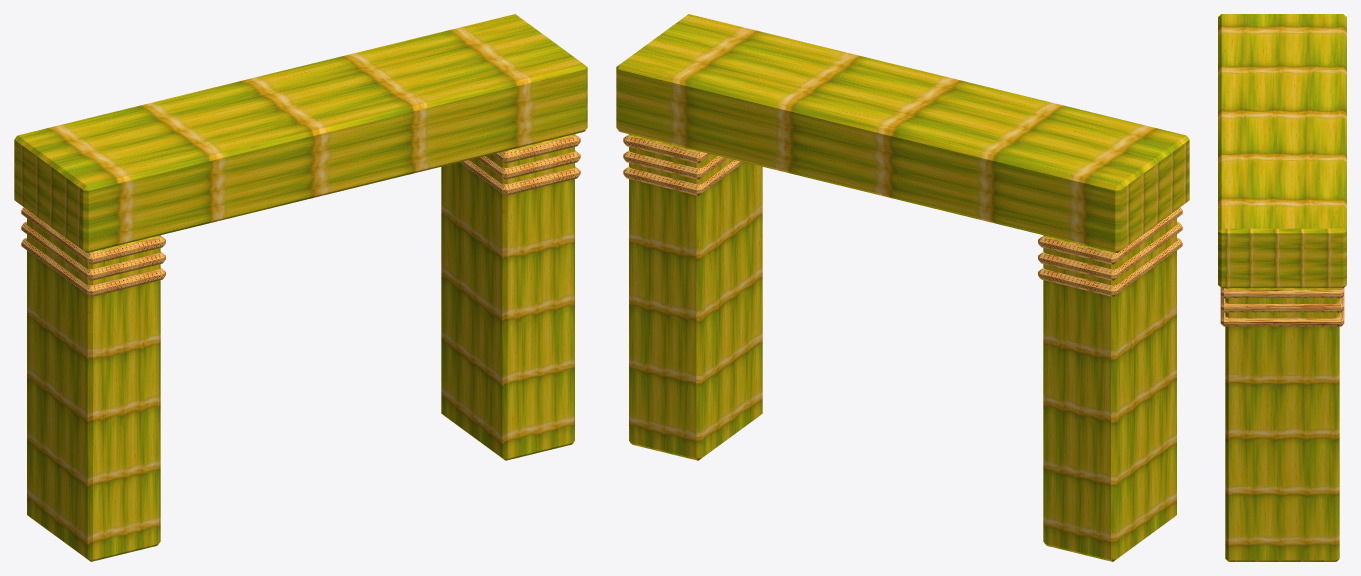
The model's file is bamboo_arch-DrD-zTY2.glb.
The picture shows the model from 3 angles, left to right: view 1: azimuth 30°, elevation 25°; view 2: azimuth 150°, elevation 25°; view 3: azimuth 270°, elevation 25°; orthographic projection. The views are drawn at different scales.
Parts seen in each view (by area): view 1: HI_bamboo_arch; view 2: HI_bamboo_arch; view 3: HI_bamboo_arch.
Boxes of the visible parts, <box> form: HI_bamboo_arch: <box>14,14,587,561</box>; HI_bamboo_arch: <box>616,14,1189,561</box>; HI_bamboo_arch: <box>1218,14,1346,561</box>.
Size of the model in its own units: 1.8 by 1.3 by 0.45.
1 material, 1 textured.
